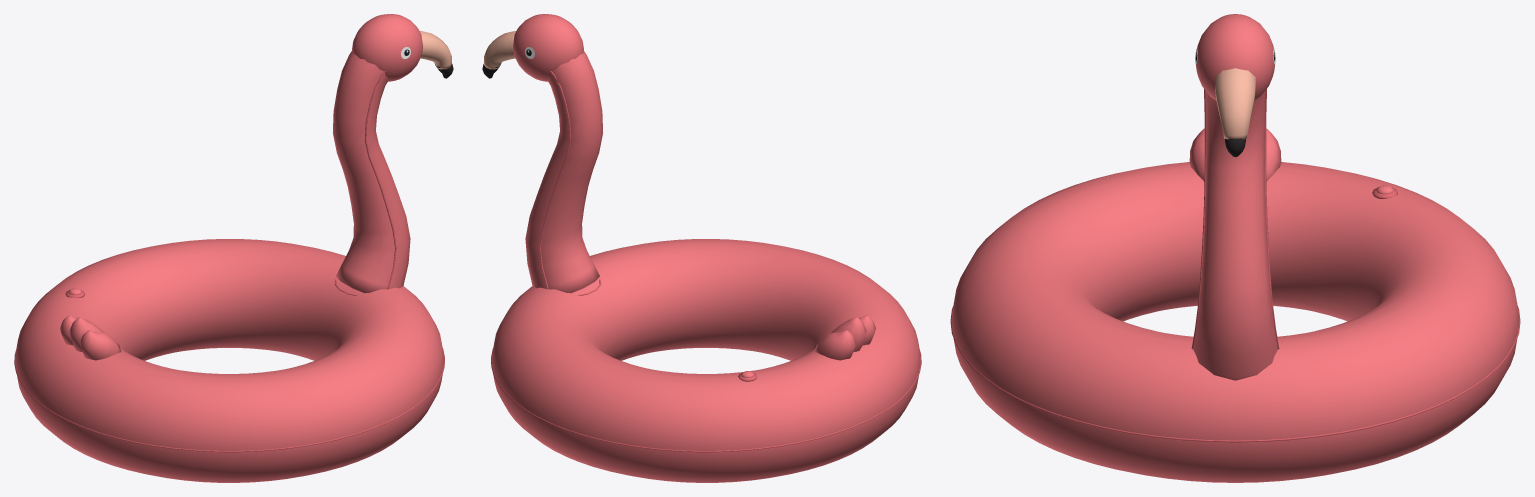
The model's file is flamingo.glb.
3 views of the same model, side by side, from view 1: azimuth 30°, elevation 25°; view 2: azimuth 150°, elevation 25°; view 3: azimuth 270°, elevation 25° (orthographic). The views are drawn at different scales.
Parts seen in each view (by area): view 1: ring, neck, head, outer seam, tail feather 1, beak, tail feather 2, neck seam -1; view 2: ring, neck, head, outer seam, tail feather 3, beak, tail feather 2, neck seam 1; view 3: ring, neck, head, beak, outer seam.
Boxes of the visible parts, bbox=[...] form: ring: bbox=[15, 239, 444, 482]; neck: bbox=[333, 51, 410, 293]; head: bbox=[352, 14, 422, 81]; outer seam: bbox=[14, 348, 444, 452]; tail feather 1: bbox=[79, 330, 121, 360]; beak: bbox=[419, 31, 451, 69]; tail feather 2: bbox=[69, 317, 104, 352]; neck seam -1: bbox=[364, 71, 396, 289]; ring: bbox=[491, 239, 920, 482]; neck: bbox=[525, 51, 602, 293]; head: bbox=[513, 14, 583, 81]; outer seam: bbox=[491, 348, 921, 452]; tail feather 3: bbox=[814, 330, 856, 360]; beak: bbox=[484, 31, 516, 69]; tail feather 2: bbox=[831, 317, 866, 352]; neck seam 1: bbox=[539, 71, 571, 289]; ring: bbox=[951, 162, 1519, 482]; neck: bbox=[1193, 90, 1277, 380]; head: bbox=[1196, 14, 1274, 100]; beak: bbox=[1215, 68, 1255, 139]; outer seam: bbox=[950, 306, 1520, 442].
Bounding box in the file's own units: 0.887 × 0.736 × 0.8084.
